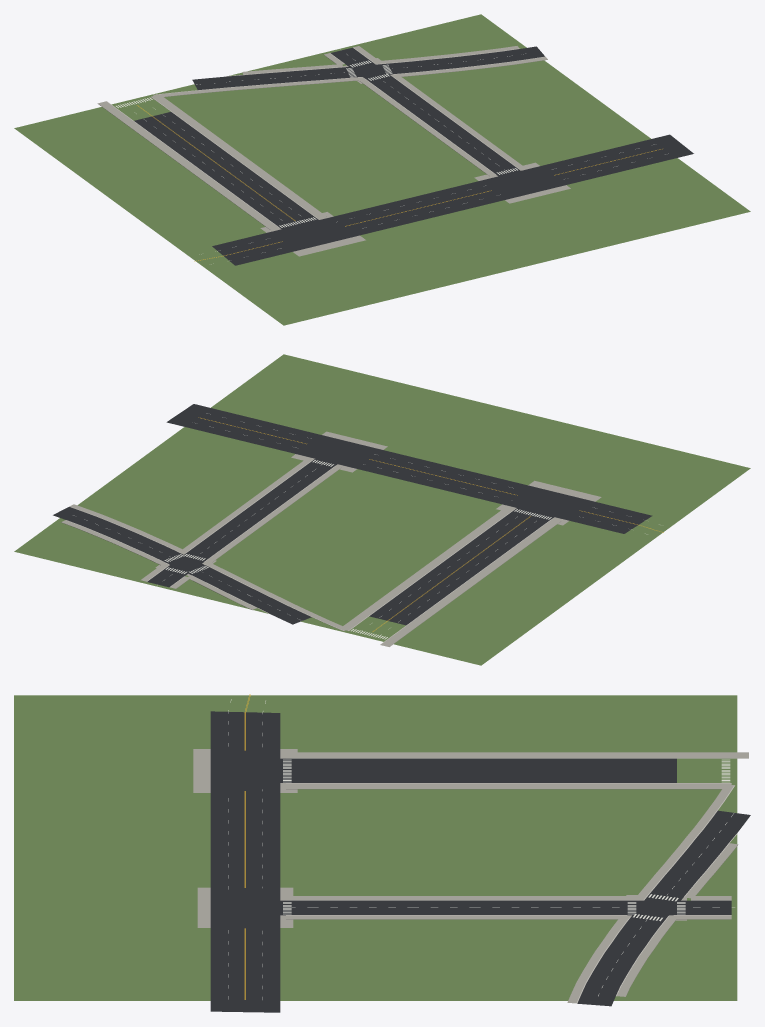
File: Ground_1_0.fbx
3 views of the same model, one above another, from view 1: azimuth 30°, elevation 25°; view 2: azimuth 150°, elevation 25°; view 3: azimuth 270°, elevation 25° (orthographic). The views are drawn at different scales.
Parts seen in each view (by area): view 1: Ground_1_0; view 2: Ground_1_0; view 3: Ground_1_0.
Part boxes in pixels (x1,y1,x2,y2): Ground_1_0: (14, 14, 750, 325); Ground_1_0: (14, 354, 750, 665); Ground_1_0: (14, 694, 750, 1012).
Bounding box in the file's own units: 260 × 0.14 × 255.
